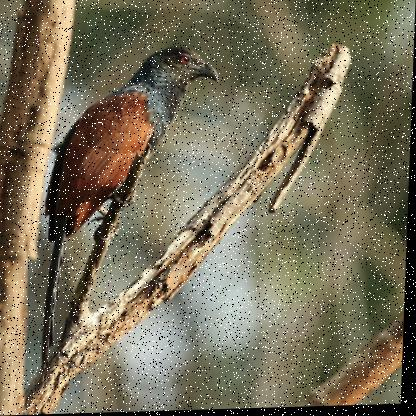Burung: (40, 46, 220, 376)
